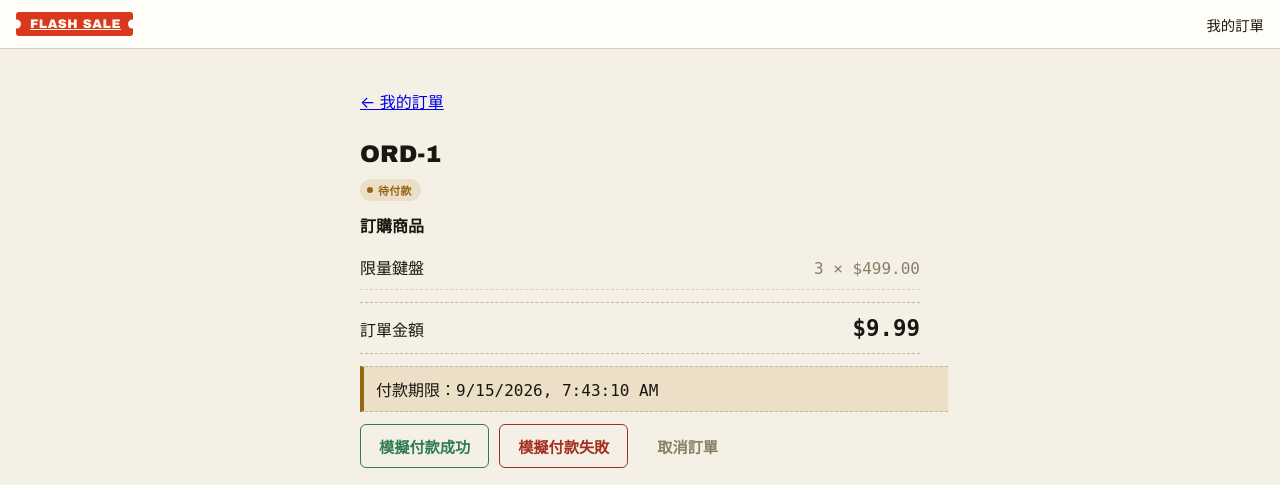
Scenario: OrderDetailPage › submits SUCCESS payment and reflects the updated status
The image size is (1280, 485).
Click the button "模擬付款成功" at (425, 446), box [360,424,489,468]
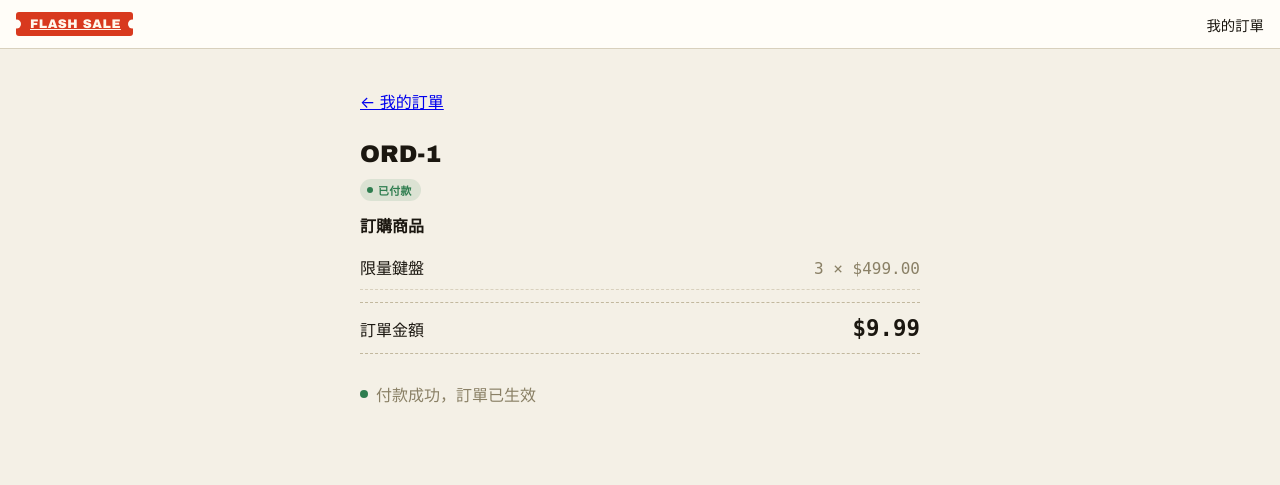
Check: the text "已付款" is shown, box [360,179,421,201]
